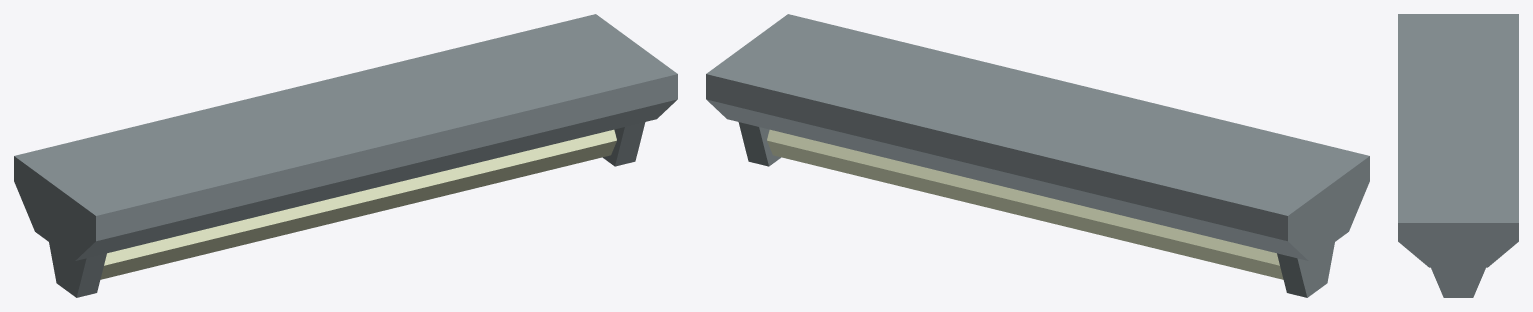
Rendered from fluorescent_lamp.fbx.
3 views of the same model, side by side, from view 1: azimuth 30°, elevation 25°; view 2: azimuth 150°, elevation 25°; view 3: azimuth 270°, elevation 25° (orthographic). The views are drawn at different scales.
Parts seen in each view (by area): view 1: florehasan lamba, florehasan silindiri; view 2: florehasan lamba, florehasan silindiri; view 3: florehasan lamba.
Boxes of the visible parts, <box> form: florehasan lamba: <box>14,14,677,297</box>; florehasan silindiri: <box>100,129,616,279</box>; florehasan lamba: <box>706,14,1369,297</box>; florehasan silindiri: <box>767,129,1283,279</box>; florehasan lamba: <box>1398,14,1518,297</box>.
Size of the model in its own units: 110 by 19.37 by 26.8.
